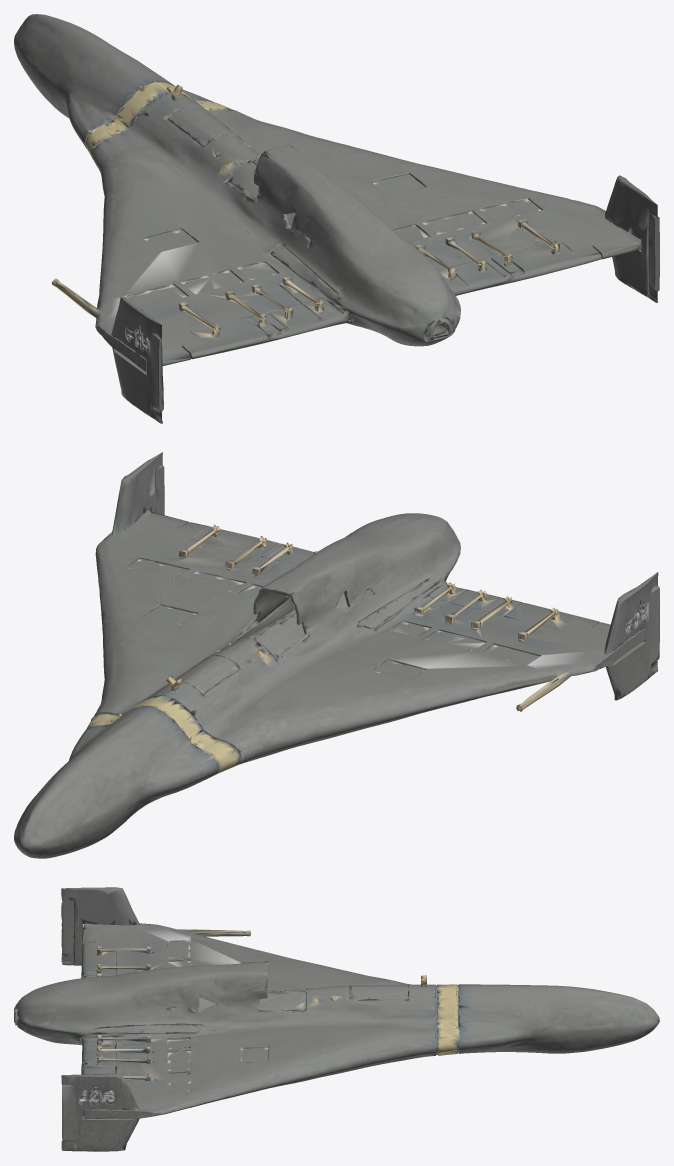
File: geran3.glb
3 renders of one model, top to bottom at view 1: azimuth 30°, elevation 25°; view 2: azimuth 150°, elevation 25°; view 3: azimuth 270°, elevation 25°, orthographic. The views are drawn at different scales.
Parts seen in each view (by area): view 1: Object_2; view 2: Object_2; view 3: Object_2.
Boxes of the visible parts, x1,y1,x2,y2 form: Object_2: [14, 14, 659, 423]; Object_2: [14, 452, 659, 858]; Object_2: [14, 887, 659, 1151].
Bounding box in the file's own units: 0.6764 × 0.1518 × 0.9781.
